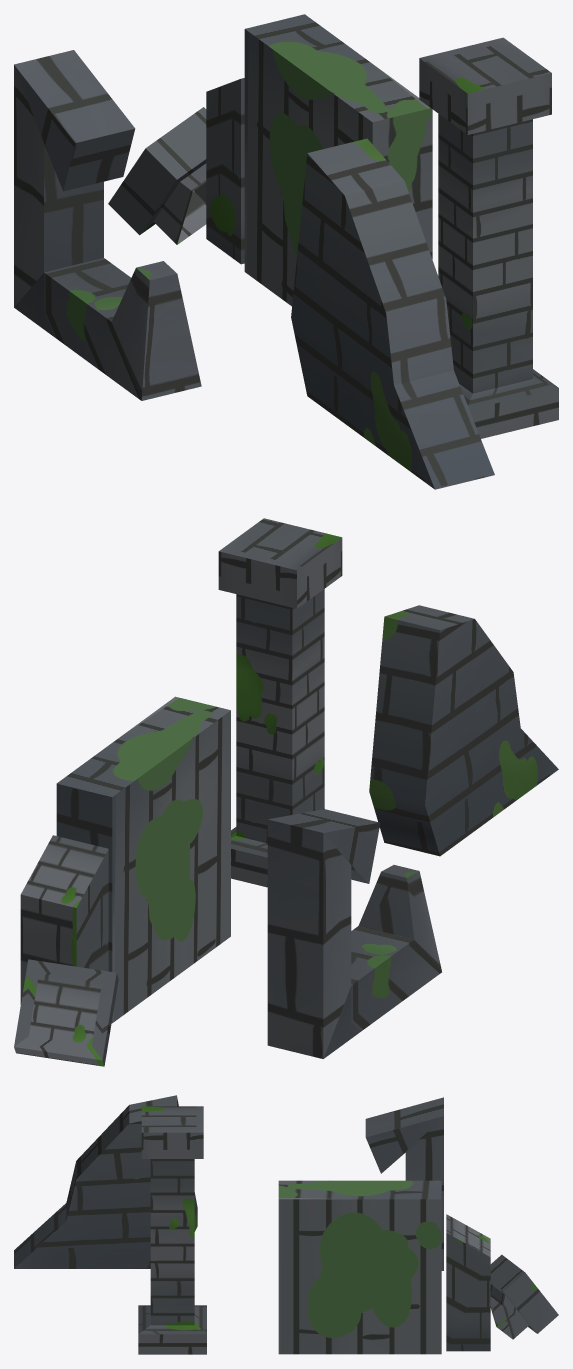
The model's file is ruin.fbx.
3 renders of one model, top to bottom at view 1: azimuth 30°, elevation 25°; view 2: azimuth 150°, elevation 25°; view 3: azimuth 270°, elevation 25°, orthographic. The views are drawn at different scales.
Parts seen in each view (by area): view 1: pasted__pCube2, pCube4, pCube1, pCube2, pasted__pCube1, pCube3; view 2: pCube2, pasted__pCube2, pCube4, pCube1, pCube3, pasted__pCube1; view 3: pCube2, pasted__pCube2, pCube1, pCube3, pCube4, pasted__pCube1.
Boxes of the visible parts, <box> form: pasted__pCube2: <box>291,138,494,489</box>; pCube4: <box>14,50,201,400</box>; pCube1: <box>419,37,558,438</box>; pCube2: <box>244,14,432,306</box>; pasted__pCube1: <box>108,107,206,244</box>; pCube3: <box>206,78,244,264</box>; pCube2: <box>56,696,230,1023</box>; pasted__pCube2: <box>369,605,558,856</box>; pCube4: <box>267,809,441,1058</box>; pCube1: <box>218,518,342,887</box>; pCube3: <box>20,835,108,1004</box>; pasted__pCube1: <box>14,959,118,1066</box>; pCube2: <box>278,1180,441,1354</box>; pasted__pCube2: <box>14,1095,197,1268</box>; pCube1: <box>138,1106,206,1354</box>; pCube3: <box>446,1214,490,1351</box>; pCube4: <box>365,1097,443,1270</box>; pasted__pCube1: <box>490,1254,558,1339</box>.
Size of the model in its own units: 5.09 by 5.63 by 12.33.
